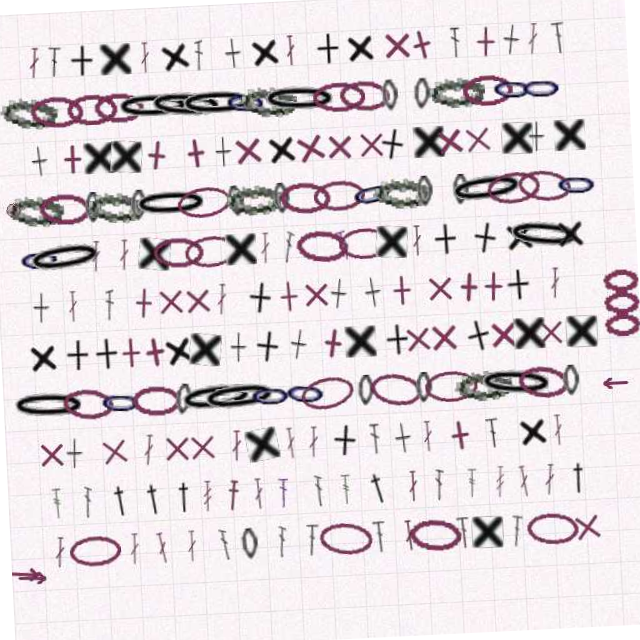chain: (508, 226, 589, 266), (28, 226, 109, 265), (157, 80, 237, 118), (453, 178, 533, 216), (173, 374, 253, 411), (473, 374, 553, 411), (196, 375, 276, 411), (271, 82, 350, 115), (6, 376, 84, 409), (125, 83, 203, 114), (189, 83, 267, 114), (138, 181, 216, 212), (295, 373, 353, 413), (364, 373, 422, 413), (522, 178, 579, 216), (10, 81, 69, 117), (307, 521, 364, 558), (513, 374, 568, 411), (182, 179, 238, 215), (492, 179, 548, 215), (298, 228, 353, 264), (57, 375, 112, 411), (397, 522, 452, 558), (250, 82, 308, 116), (12, 180, 70, 214), (92, 180, 150, 214), (451, 376, 509, 410), (515, 522, 570, 557), (231, 180, 289, 213), (349, 81, 403, 116), (187, 229, 242, 263), (379, 181, 437, 213), (40, 82, 94, 116), (439, 83, 496, 115), (285, 180, 338, 214), (44, 180, 97, 213), (355, 178, 402, 215), (104, 82, 156, 115), (319, 181, 372, 213), (342, 230, 396, 261), (421, 377, 475, 408), (156, 230, 208, 262), (127, 377, 179, 409), (58, 524, 110, 556), (323, 83, 376, 114), (77, 83, 129, 114), (473, 83, 525, 114), (279, 375, 325, 410), (234, 82, 279, 116), (501, 82, 546, 115), (95, 376, 139, 409), (561, 181, 605, 213), (21, 230, 65, 262), (245, 377, 289, 409), (531, 83, 574, 115), (232, 180, 252, 214), (170, 376, 190, 409), (392, 83, 410, 115), (424, 83, 442, 115), (230, 524, 248, 556), (136, 181, 153, 212), (279, 181, 296, 212), (354, 377, 371, 408), (412, 377, 429, 408), (91, 181, 107, 212), (423, 181, 439, 212), (459, 181, 475, 212), (560, 377, 576, 408)
double: (339, 230, 355, 262), (565, 34, 580, 66), (144, 524, 159, 556), (498, 524, 513, 556), (60, 34, 75, 65), (480, 426, 495, 457), (294, 524, 309, 555), (362, 524, 377, 555), (446, 524, 461, 555), (509, 475, 523, 507), (285, 230, 299, 261), (540, 34, 553, 65), (136, 426, 149, 457), (535, 475, 548, 506), (41, 34, 53, 65), (217, 279, 229, 310), (279, 426, 291, 457), (43, 524, 55, 555), (208, 524, 220, 555), (393, 524, 405, 555), (94, 230, 105, 261), (122, 230, 133, 261), (551, 279, 562, 310), (225, 426, 236, 457), (302, 426, 313, 457), (364, 426, 375, 457), (547, 426, 558, 457), (245, 475, 256, 506), (425, 475, 436, 506), (118, 524, 129, 555), (153, 34, 163, 65), (299, 34, 309, 65), (464, 34, 474, 65), (264, 230, 274, 261), (416, 230, 426, 261), (69, 279, 79, 310), (417, 426, 427, 457), (74, 475, 84, 506), (270, 475, 280, 506), (400, 475, 410, 506), (176, 524, 186, 555), (266, 524, 276, 555), (106, 279, 115, 310), (306, 475, 315, 506), (208, 34, 216, 65)
enseble_chain: (600, 283, 640, 356)
half_double: (358, 474, 382, 508), (102, 475, 122, 507), (135, 475, 155, 507), (166, 475, 185, 506), (561, 475, 580, 506), (217, 475, 232, 507)
noise: (0, 551, 29, 568), (5, 557, 36, 570), (10, 186, 28, 204), (597, 392, 625, 403)
single: (301, 130, 337, 166), (314, 326, 350, 362), (418, 32, 453, 68), (147, 130, 182, 165), (239, 424, 274, 459), (161, 326, 195, 361), (441, 131, 475, 165), (141, 229, 175, 263), (137, 327, 171, 361), (187, 327, 221, 361), (560, 523, 594, 557), (172, 32, 205, 67), (438, 425, 471, 459), (118, 131, 151, 164), (188, 131, 221, 164), (240, 131, 273, 164), (470, 131, 503, 164), (379, 229, 412, 262), (454, 278, 487, 311), (92, 425, 125, 458), (129, 278, 161, 311), (483, 34, 515, 66), (332, 132, 364, 164), (510, 132, 542, 164), (183, 279, 215, 311), (274, 279, 306, 311), (479, 279, 511, 311), (401, 328, 433, 360), (565, 328, 597, 360), (461, 524, 493, 556), (263, 33, 294, 66), (275, 131, 306, 164), (512, 425, 543, 458), (463, 326, 492, 361), (508, 230, 539, 262), (386, 131, 415, 165), (474, 229, 503, 263), (113, 34, 144, 65), (395, 34, 426, 65), (92, 132, 123, 163), (422, 132, 453, 163), (563, 132, 594, 163), (229, 230, 260, 261), (302, 279, 333, 310), (388, 279, 419, 310), (426, 279, 457, 310), (114, 328, 145, 359), (344, 328, 375, 359), (487, 328, 518, 359), (513, 328, 544, 359), (30, 426, 61, 457), (181, 426, 212, 457), (359, 34, 389, 66), (27, 328, 57, 360), (247, 278, 275, 312), (252, 327, 280, 361), (66, 132, 96, 163), (365, 132, 395, 163), (157, 279, 187, 310), (428, 328, 458, 359), (535, 328, 565, 359), (156, 426, 186, 457), (560, 230, 589, 261), (325, 425, 352, 458), (82, 34, 107, 65), (507, 279, 532, 310), (329, 34, 353, 65), (437, 230, 461, 261), (64, 328, 88, 359), (93, 328, 117, 359), (384, 328, 408, 359), (287, 327, 308, 360), (515, 33, 535, 66), (330, 279, 350, 311), (365, 279, 384, 311), (388, 426, 407, 458), (39, 132, 57, 164), (238, 34, 255, 65), (537, 132, 554, 163), (34, 279, 51, 310), (229, 328, 246, 359), (60, 426, 77, 457), (224, 132, 240, 163)
treble: (332, 475, 344, 506), (458, 475, 470, 506), (486, 475, 498, 506), (43, 475, 54, 506), (194, 475, 204, 506)
